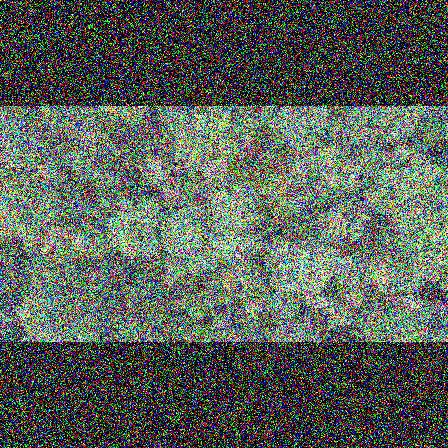Dead: (242, 296, 268, 316)
